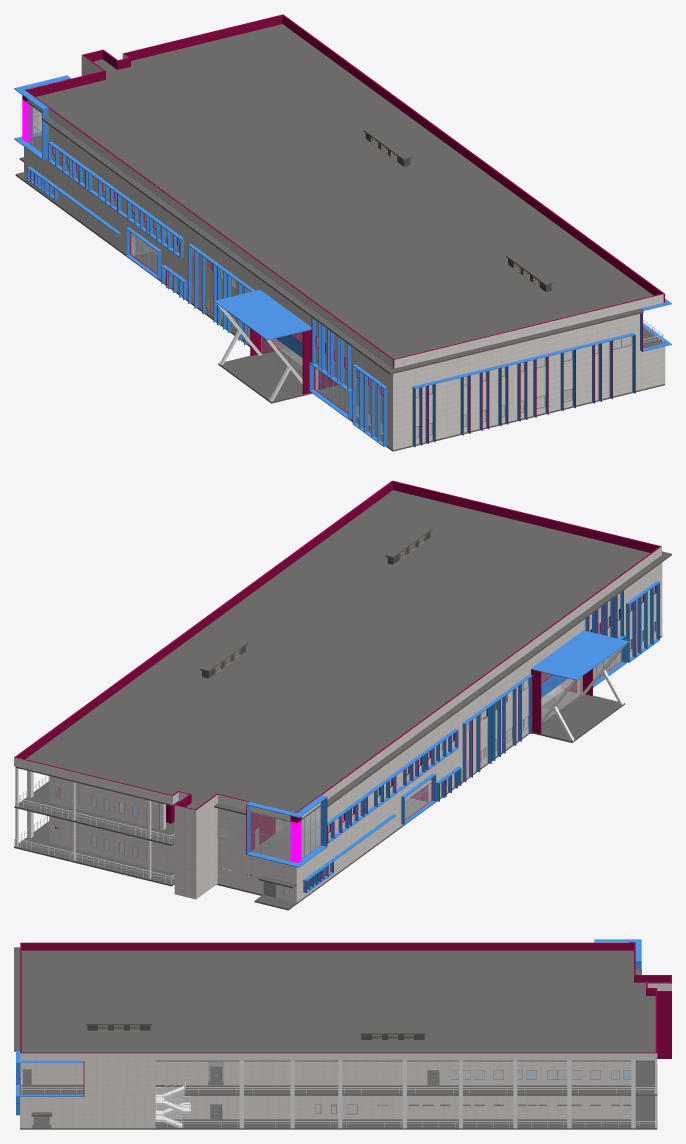
The picture shows the model from 3 angles, top to bottom: view 1: azimuth 30°, elevation 25°; view 2: azimuth 150°, elevation 25°; view 3: azimuth 270°, elevation 25°; orthographic projection. The views are drawn at different scales.
Visible parts, largest first — view 1: Default_Roof, Ceiling_Tile_600_x_1200_1_, Copper, Default_Wall, Glass, Clad_-_White, RNT_Material, Aluminum; view 2: Default_Roof, Ceiling_Tile_600_x_1200_1_, Copper, Default_Wall, Glass, Concrete__Cast-in-Place__Gray, Phase_-_Demo, Clad_-_White, RNT_Material, Aluminum; view 3: Default_Roof, Ceiling_Tile_600_x_1200_1_, Default_Wall, Concrete__Cast-in-Place__Gray, Phase_-_Demo, Glass, Copper, Door_-_Panel, RNT_Material, Clad_-_White, Stair_Railing, Render_Material_0-0-255 (+1 smaller).
Part boxes in pixels (box(x1,y1,x2,y2)): Default_Roof: box(15, 24, 664, 451); Ceiling_Tile_600_x_1200_1_: box(24, 53, 665, 450); Copper: box(14, 75, 671, 446); Default_Wall: box(25, 14, 664, 447); Glass: box(28, 103, 631, 437); Clad_-_White: box(52, 147, 632, 438); RNT_Material: box(216, 303, 302, 401); Aluminum: box(28, 105, 347, 414); Default_Roof: box(14, 490, 671, 910); Ceiling_Tile_600_x_1200_1_: box(14, 546, 662, 902); Copper: box(93, 581, 659, 892); Default_Wall: box(14, 480, 661, 891); Glass: box(55, 587, 654, 893); Concrete__Cast-in-Place__Gray: box(15, 652, 620, 879); Phase_-_Demo: box(14, 775, 174, 884); Clad_-_White: box(54, 586, 656, 894); RNT_Material: box(541, 644, 626, 740); Aluminum: box(252, 652, 621, 859); Default_Roof: box(14, 947, 670, 1129); Ceiling_Tile_600_x_1200_1_: box(20, 983, 671, 1128); Default_Wall: box(20, 942, 671, 1106); Concrete__Cast-in-Place__Gray: box(239, 1060, 656, 1128); Phase_-_Demo: box(21, 1082, 656, 1128); Glass: box(208, 1061, 631, 1113); Copper: box(16, 939, 641, 1115); Door_-_Panel: box(23, 1066, 631, 1124); RNT_Material: box(155, 1085, 190, 1127); Clad_-_White: box(315, 1070, 631, 1114); Stair_Railing: box(20, 1078, 190, 1122); Render_Material_0-0-255: box(87, 1025, 424, 1039).
Size of the model in its own units: 46.17 by 12.5 by 96.89.
Materials: 32 (4 with a texture image).
